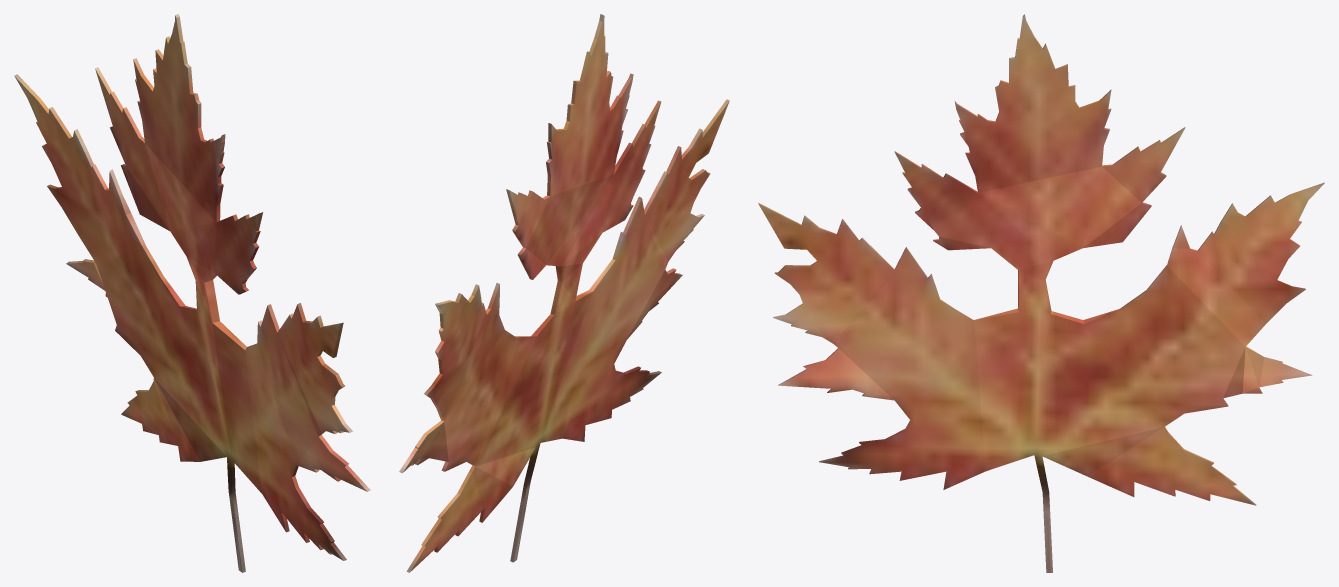
Rendered from MAPLE LEAF.fbx.
3 views of the same model, side by side, from view 1: azimuth 30°, elevation 25°; view 2: azimuth 150°, elevation 25°; view 3: azimuth 270°, elevation 25° (orthographic). The views are drawn at different scales.
Visible parts, largest first — view 1: MAPLE_LEAF; view 2: MAPLE_LEAF; view 3: MAPLE_LEAF.
Boxes of the visible parts, x1,y1,x2,y2 form: MAPLE_LEAF: [14, 14, 370, 572]; MAPLE_LEAF: [399, 14, 729, 572]; MAPLE_LEAF: [758, 14, 1324, 572].
Bounding box in the file's own units: 6.5 × 43.98 × 43.13.
